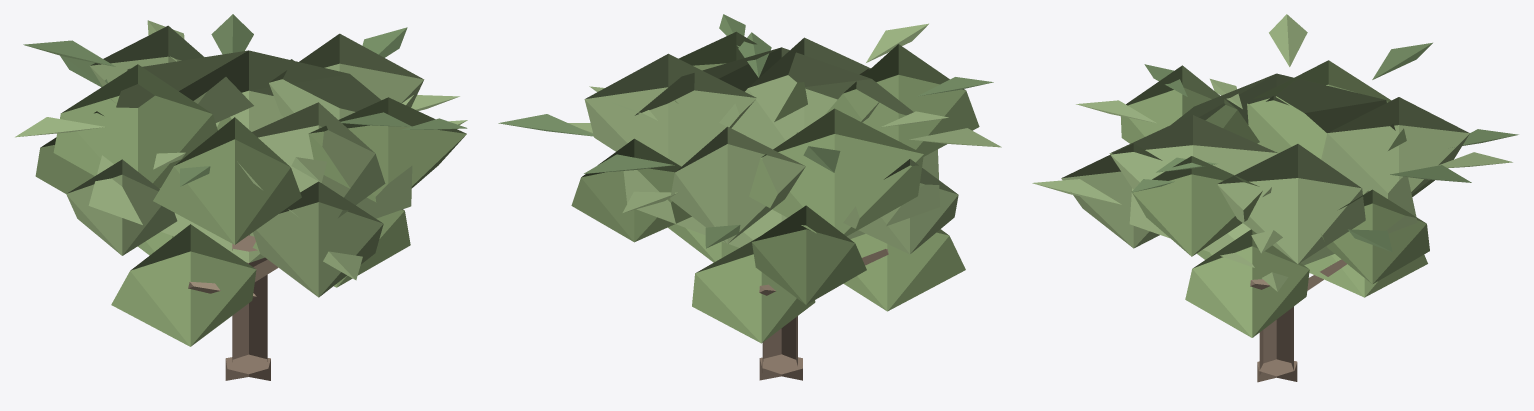
Rendered from shu.chuilui__summer.glb.
3 views of the same model, side by side, from view 1: azimuth 30°, elevation 25°; view 2: azimuth 150°, elevation 25°; view 3: azimuth 270°, elevation 25° (orthographic). The views are drawn at different scales.
Parts seen in each view (by area): view 1: shu.chuilui__summer; view 2: shu.chuilui__summer; view 3: shu.chuilui__summer.
Part boxes in pixels (left/top/right/bottom): shu.chuilui__summer: left=15, top=14, right=467, bottom=380; shu.chuilui__summer: left=498, top=14, right=1001, bottom=380; shu.chuilui__summer: left=1032, top=14, right=1518, bottom=382.
Size of the model in its own units: 15.32 by 10.49 by 15.84.
